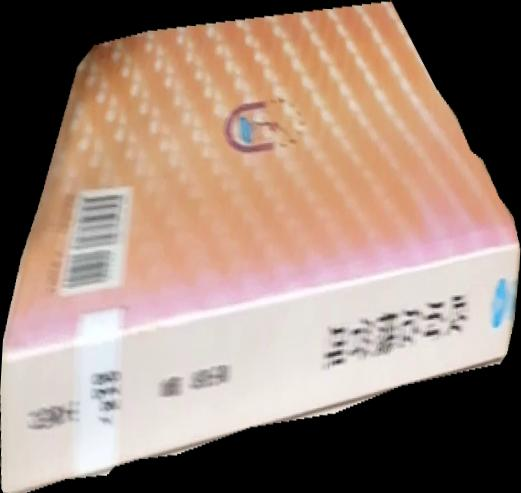flat: (1, 1, 521, 493)
